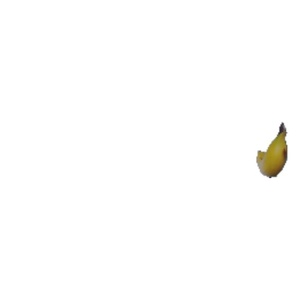banana: (242, 128, 293, 178)
